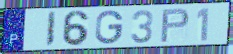1: (196, 7, 211, 42)
3: (130, 9, 155, 45)
6: (61, 10, 91, 48)
G: (94, 9, 125, 45)
I: (44, 10, 58, 48)
P: (159, 7, 191, 44)
